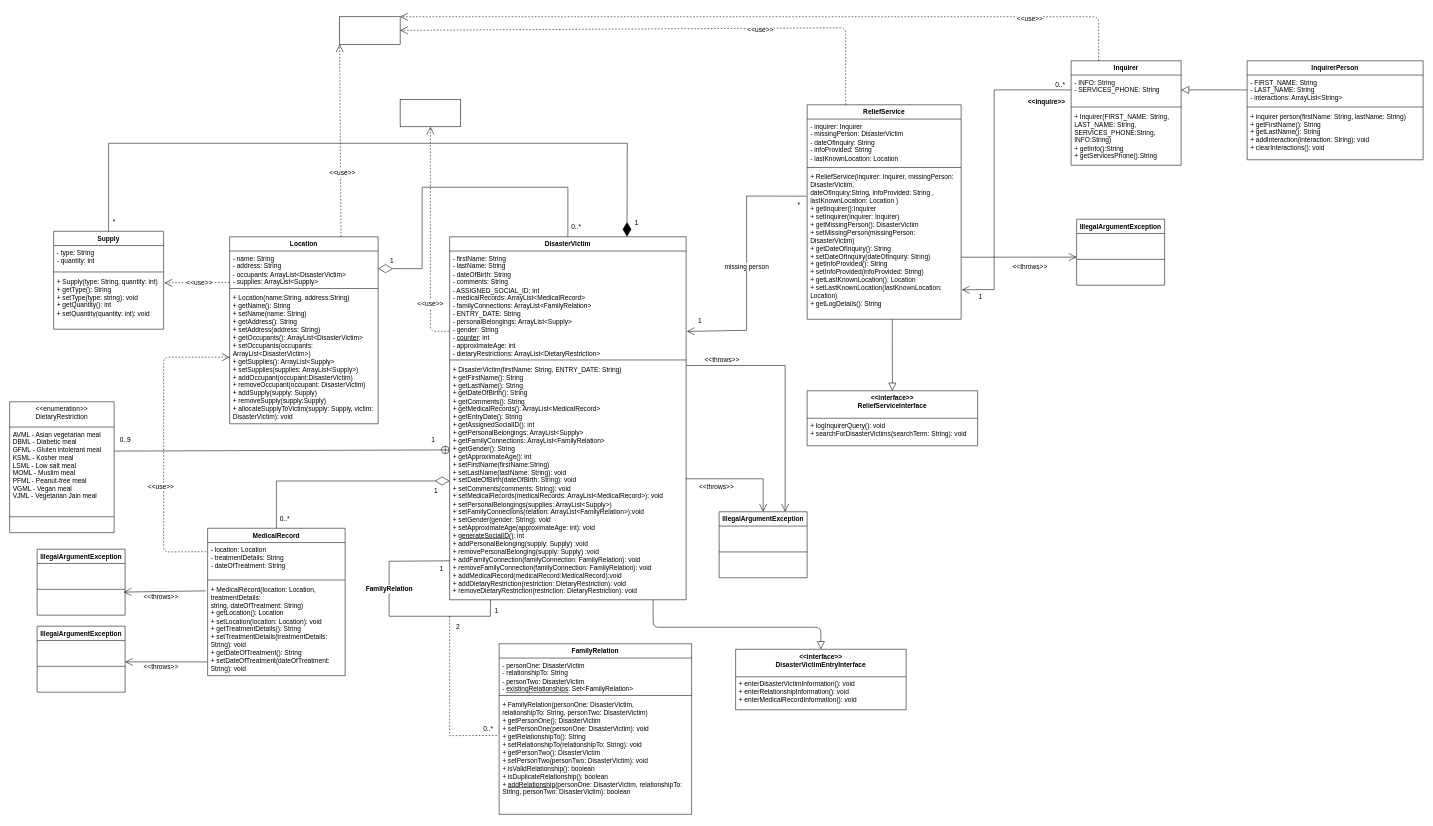
Image size: 1433x826. Some labels were removed from this diagram. The shapes that lost their labels are listed below. From the top down, each one's centre as x and y in pixels, then its label:
At pixel 369 30: "«Database» project.sql".
At pixel 430 113: "«File» GenderOptions.txt".
